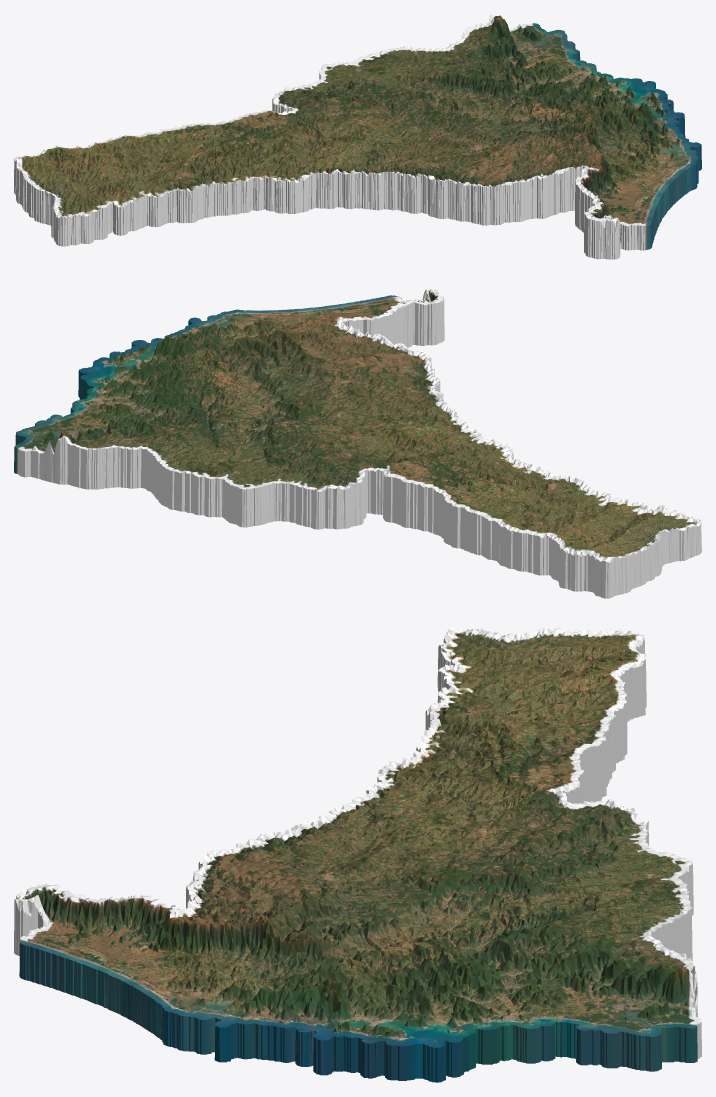
Rendered from sc_terreno.glb.
The picture shows the model from 3 angles, top to bottom: view 1: azimuth 30°, elevation 25°; view 2: azimuth 150°, elevation 25°; view 3: azimuth 270°, elevation 25°; orthographic projection. The views are drawn at different scales.
Visible parts, largest first — view 1: SC_Terreno; view 2: SC_Terreno; view 3: SC_Terreno.
Part boxes in pixels (x1,y1,x2,y2): SC_Terreno: (14,14,701,259); SC_Terreno: (14,288,701,598); SC_Terreno: (14,627,701,1082).
Size of the model in its own units: 3 by 0.24 by 2.11.
Materials: 1 (1 with a texture image).
